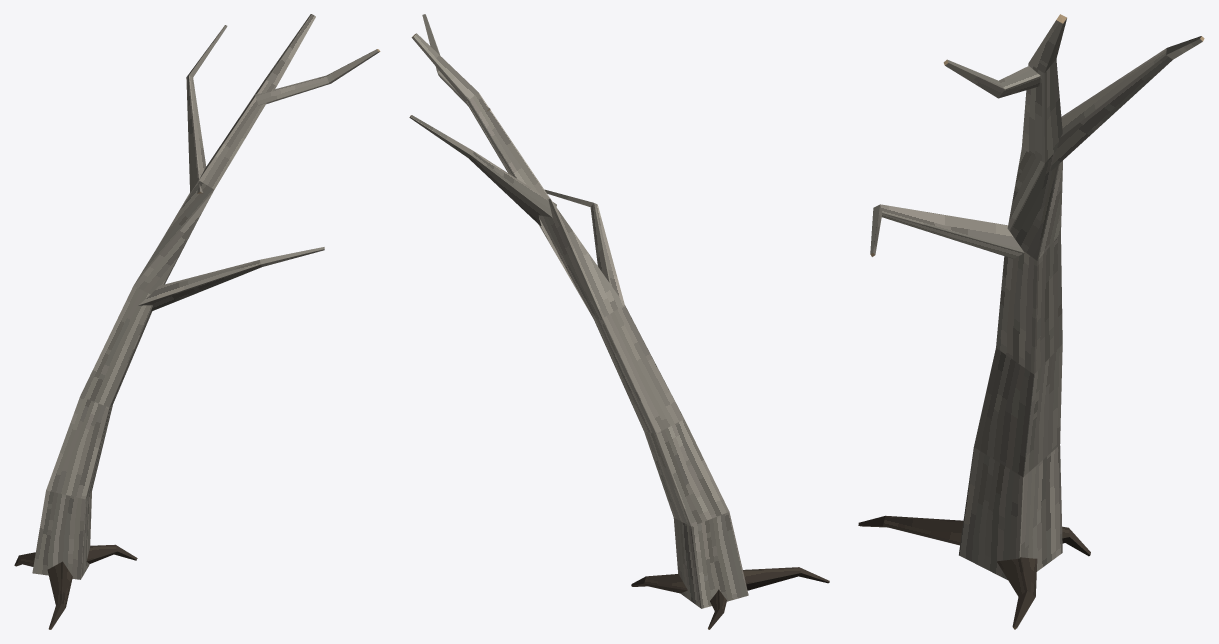
File: leaning-pine-mid.glb
3 views of the same model, side by side, from view 1: azimuth 30°, elevation 25°; view 2: azimuth 150°, elevation 25°; view 3: azimuth 270°, elevation 25° (orthographic). The views are drawn at different scales.
Parts seen in each view (by area): view 1: leaning-pine.001; view 2: leaning-pine.001; view 3: leaning-pine.001.
Boxes of the visible parts, <box> form: leaning-pine.001: <box>14,14,380,629</box>; leaning-pine.001: <box>409,14,829,629</box>; leaning-pine.001: <box>858,14,1204,629</box>.
Size of the model in its own units: 6.34 by 8.27 by 3.41.
3 materials, 3 textured.
